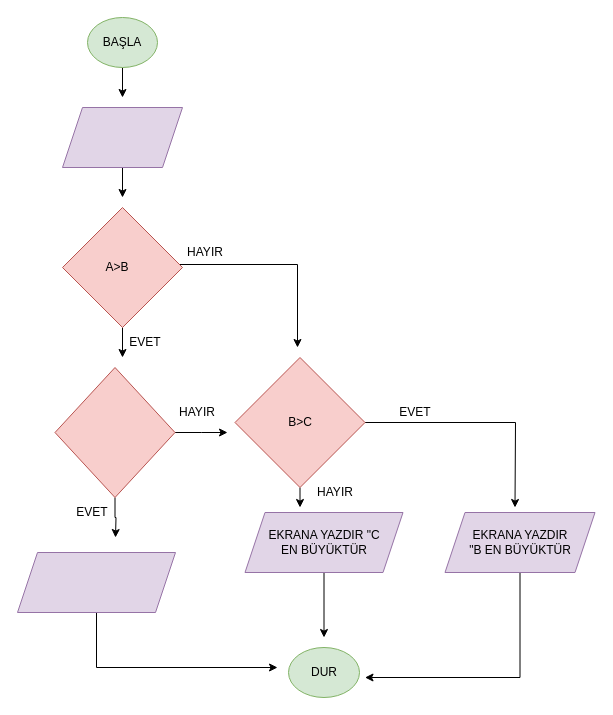
This 613x715 diagram has some shape labels left out. Here are the shapes that lost their labels. From the top down, the centre of each, then its label:
point (122, 137): OKU A,B,C
point (114, 432): A>C
point (96, 582): EKRANA YAZDIR "A EN BÜYÜKTÜR
